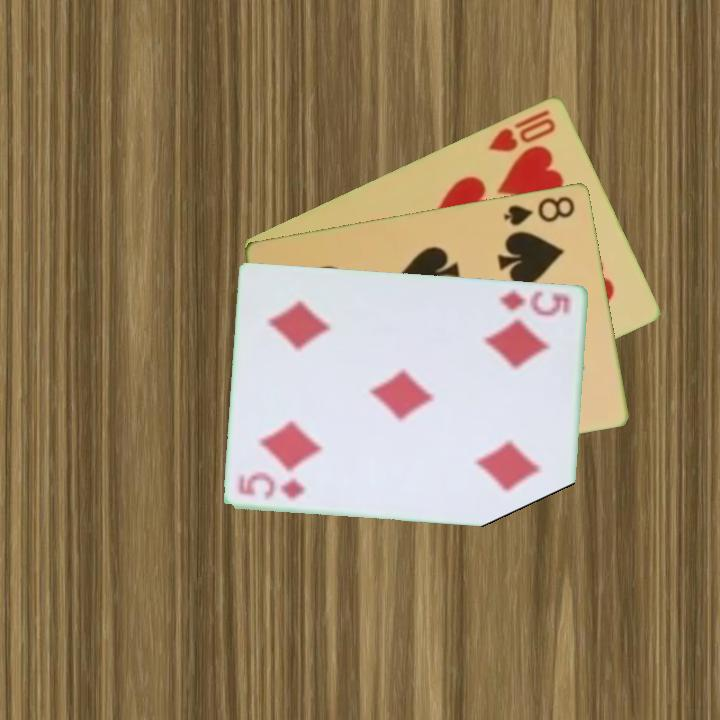10h: (484, 105, 559, 155)
5d: (496, 286, 573, 319), (235, 471, 308, 503)
8s: (500, 192, 578, 228)
